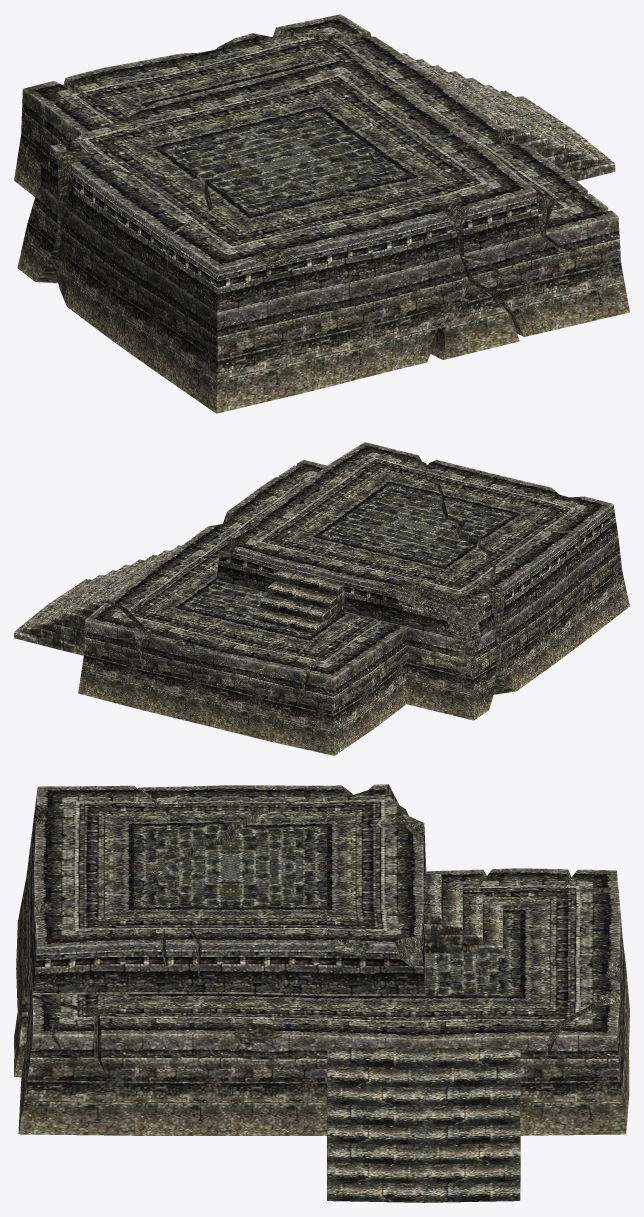
Rendered from OZ_06_mi_relic01A.glb.
3 views of the same model, one above another, from view 1: azimuth 30°, elevation 25°; view 2: azimuth 150°, elevation 25°; view 3: azimuth 270°, elevation 25° (orthographic). The views are drawn at different scales.
Parts seen in each view (by area): view 1: OM_06_mi_relic01A; view 2: OM_06_mi_relic01A; view 3: OM_06_mi_relic01A.
Part boxes in pixels (x1,y1,x2,y2): OM_06_mi_relic01A: [14, 14, 629, 413]; OM_06_mi_relic01A: [14, 442, 629, 755]; OM_06_mi_relic01A: [14, 784, 629, 1202].
Size of the model in its own units: 20.87 by 5.07 by 19.16.
Materials: 1 (1 with a texture image).
